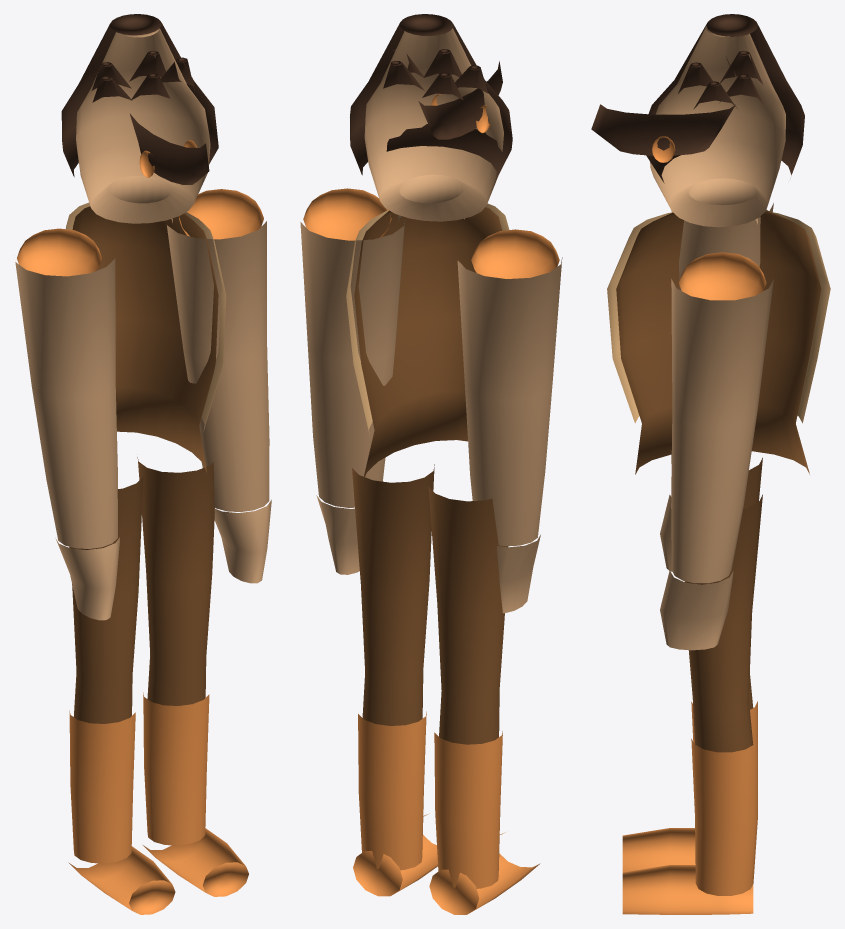
Rendered from asch.glb.
3 renders of one model, left to right at view 1: azimuth 30°, elevation 25°; view 2: azimuth 150°, elevation 25°; view 3: azimuth 270°, elevation 25°, orthographic. The views are drawn at different scales.
Visible parts, largest first — view 1: legRight, armLeft, torso, head, armRight, legLeft; view 2: legRight, torso, legLeft, head, armLeft, armRight; view 3: torso, armRight, head, legRight, legLeft, armLeft.
Boxes of the visible parts, <box> form: legRight: <box>137,457,248,896</box>; armLeft: <box>15,258,119,620</box>; torso: <box>17,189,263,471</box>; head: <box>61,14,218,223</box>; armRight: <box>167,221,271,583</box>; legLeft: <box>68,477,175,914</box>; legRight: <box>352,464,437,896</box>; torso: <box>303,188,559,481</box>; legLeft: <box>428,487,540,914</box>; head: <box>350,14,512,222</box>; armLeft: <box>457,257,562,613</box>; armRight: <box>300,218,405,574</box>; torso: <box>607,210,830,474</box>; armRight: <box>660,279,773,650</box>; head: <box>591,14,804,227</box>; legRight: <box>622,494,762,914</box>; legLeft: <box>622,457,762,872</box>; armLeft: <box>660,203,773,571</box>.
Size of the model in its own units: 0.4755 by 1.6 by 0.4006.
